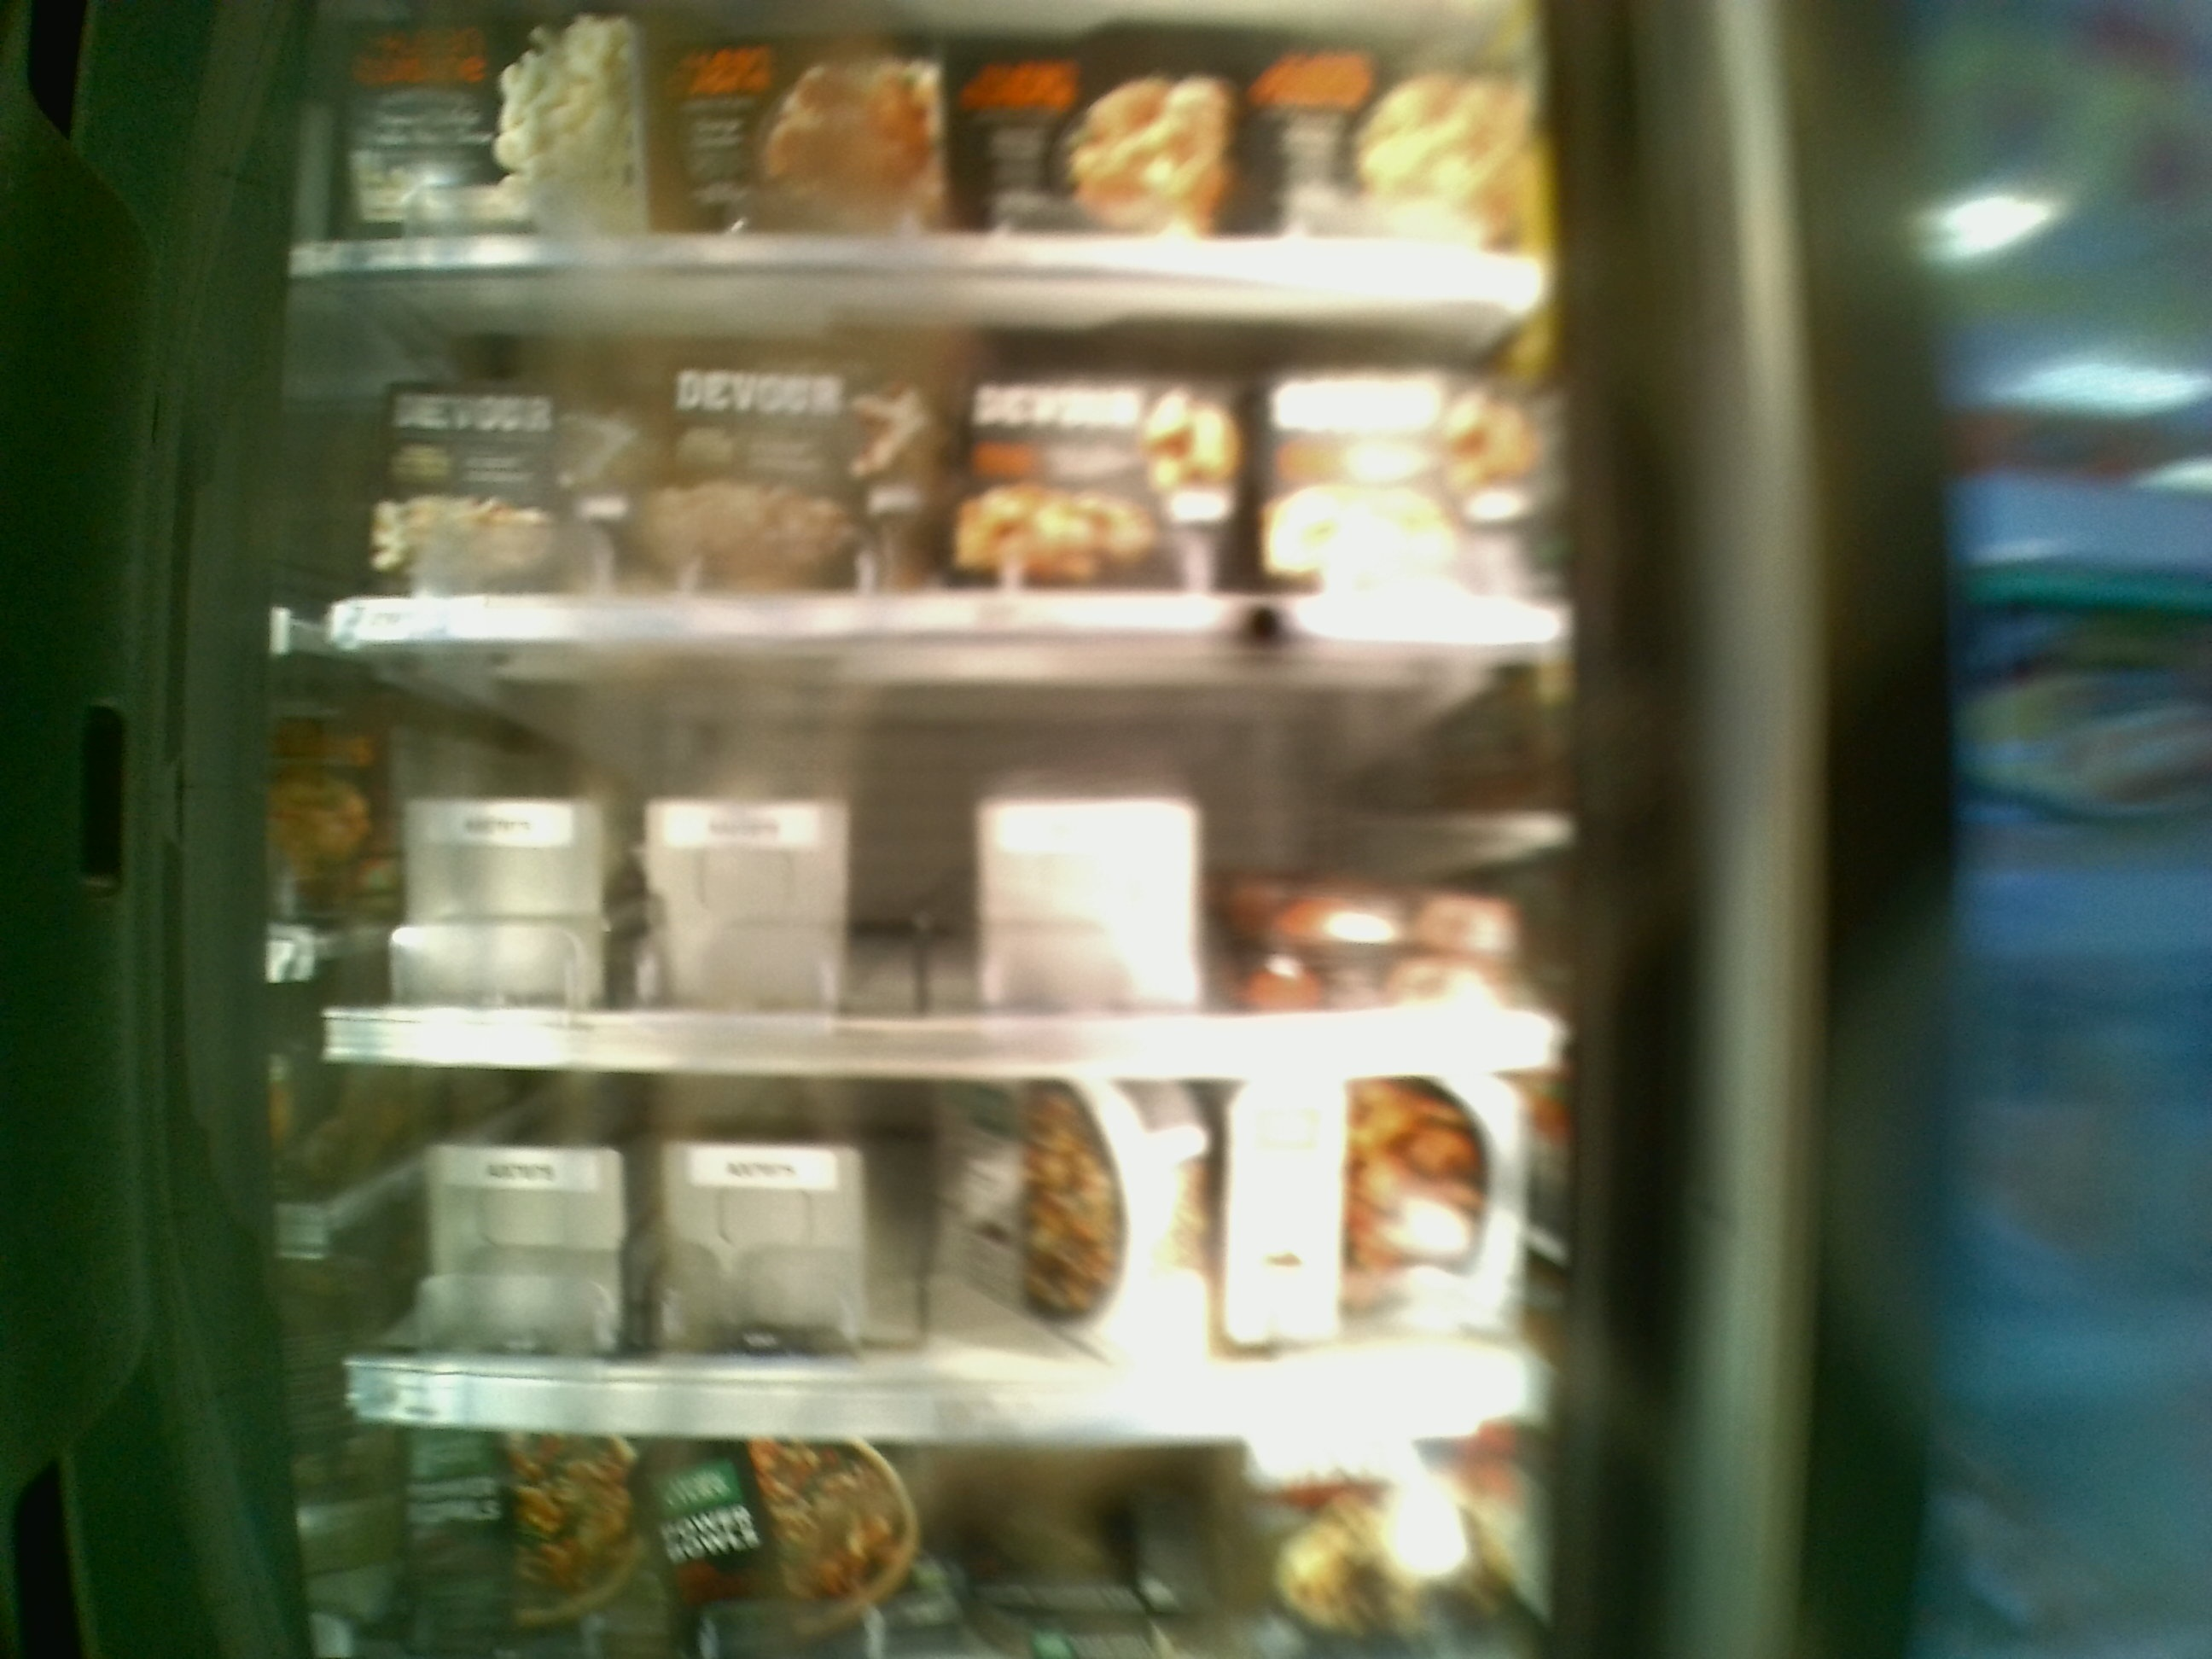shelf: (329, 641, 1587, 1070), (314, 1053, 1575, 1436), (280, 277, 1575, 647)
